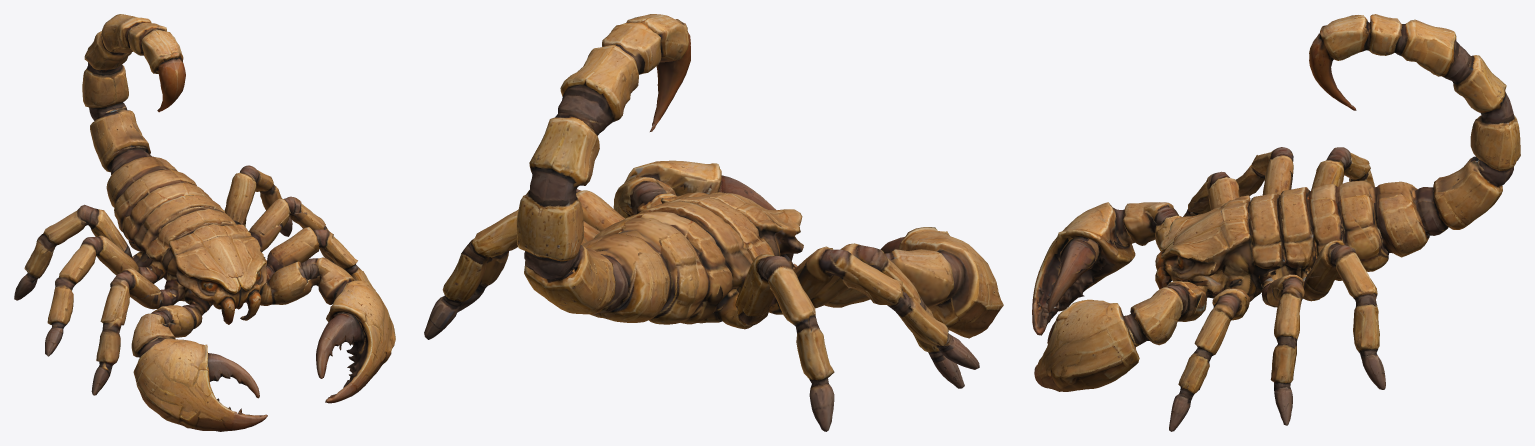
The model's file is DESERT_E01_SCORPION.glb.
The picture shows the model from 3 angles, left to right: view 1: azimuth 30°, elevation 25°; view 2: azimuth 150°, elevation 25°; view 3: azimuth 270°, elevation 25°; orthographic projection. The views are drawn at different scales.
Visible parts, largest first — view 1: texture_mapping; view 2: texture_mapping; view 3: texture_mapping.
Part boxes in pixels (x1,y1,x2,y2): texture_mapping: (14,14,395,431); texture_mapping: (424,14,1003,431); texture_mapping: (1032,14,1520,431).
Bounding box in the file's own units: 0.9355 × 0.7673 × 0.9966.
Materials: 1 (1 with a texture image).
